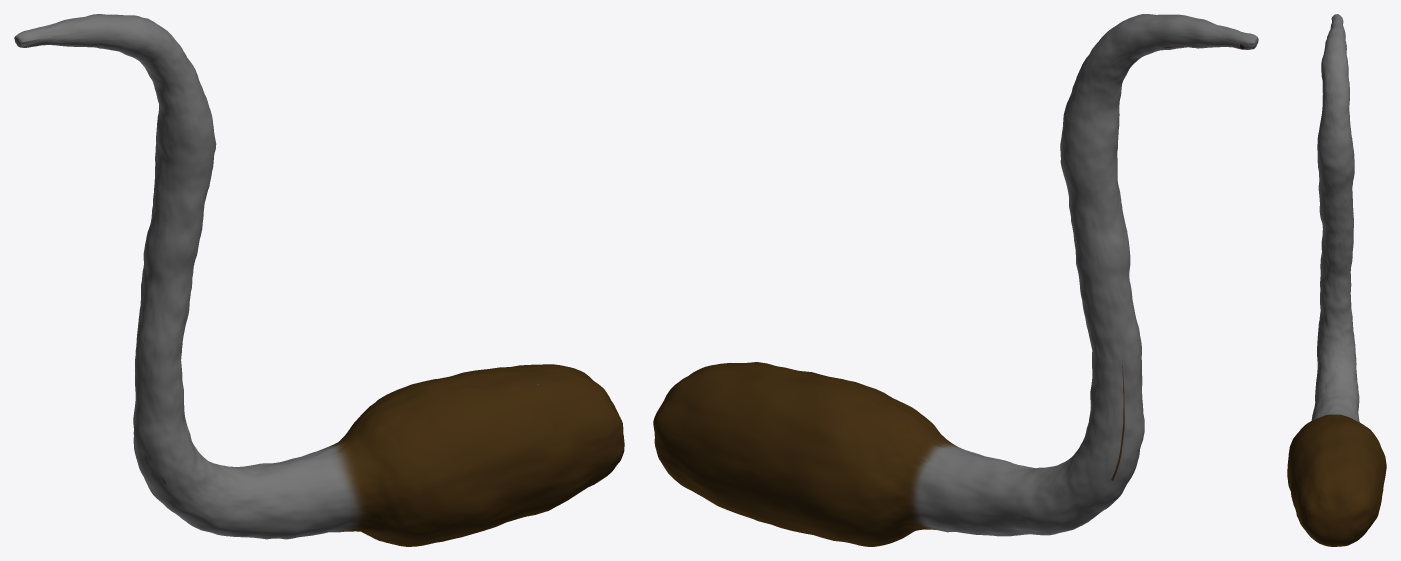
Rendered from Manivela.glb.
The picture shows the model from 3 angles, left to right: view 1: azimuth 30°, elevation 25°; view 2: azimuth 150°, elevation 25°; view 3: azimuth 270°, elevation 25°; orthographic projection. The views are drawn at different scales.
Visible parts, largest first — view 1: Manivela; view 2: Manivela; view 3: Manivela.
Boxes of the visible parts, x1=… form: Manivela: x1=14, y1=14, x2=624, y2=546; Manivela: x1=653, y1=14, x2=1258, y2=546; Manivela: x1=1287, y1=14, x2=1386, y2=546.
Bounding box in the file's own units: 2.34 × 2.27 × 0.5437.
Materials: 1 (1 with a texture image).
